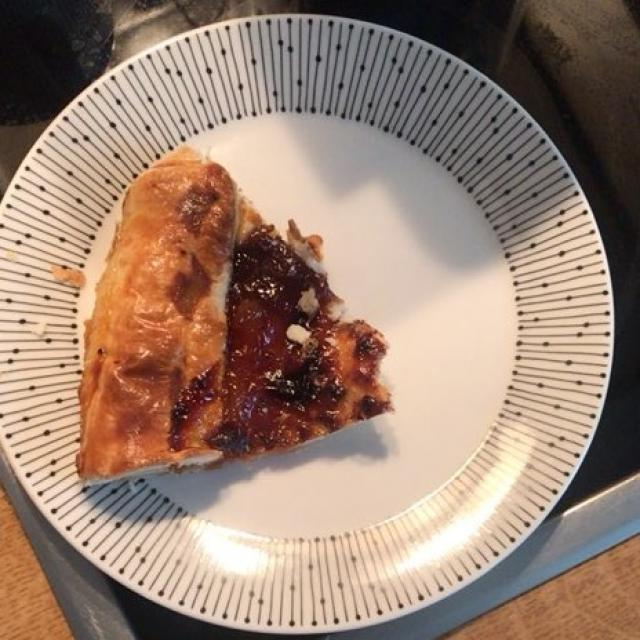jam: (219, 221, 363, 472)
